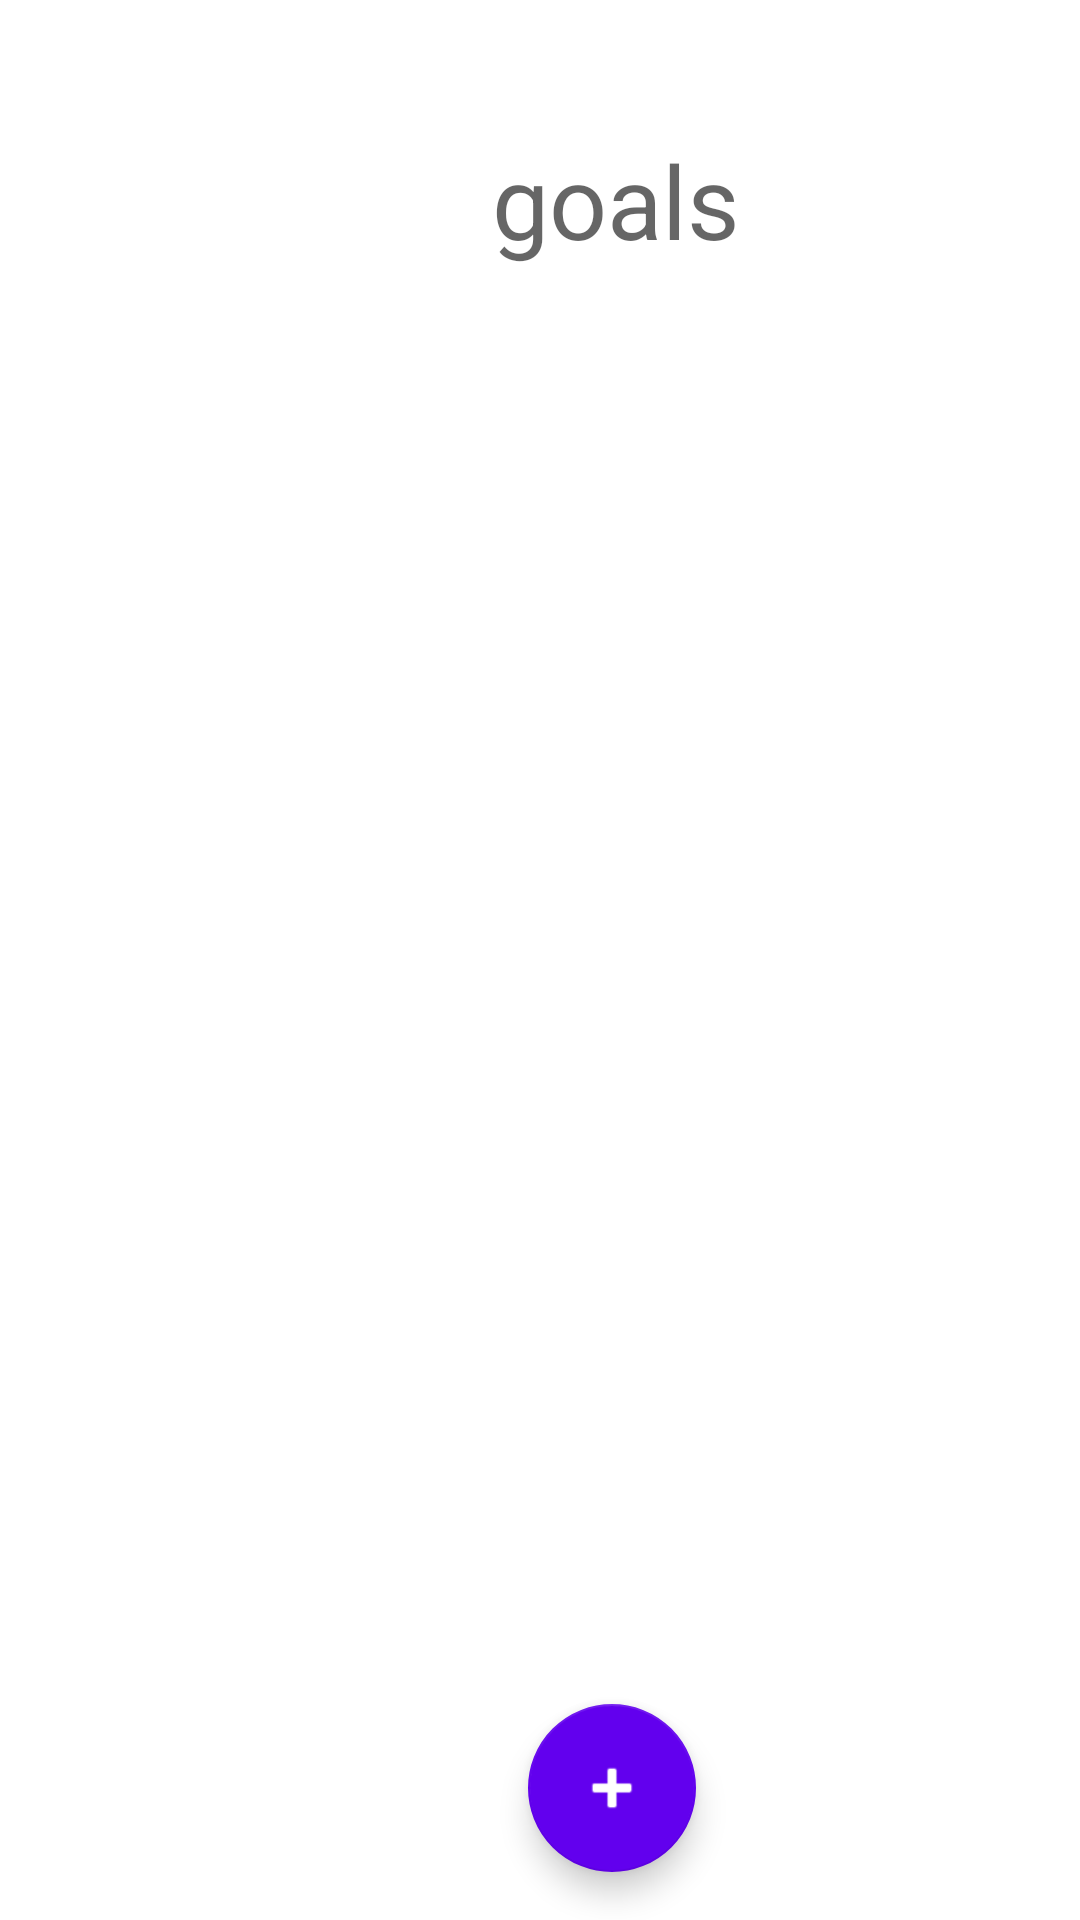

Screen size 1080px x 1920px. Icon name, then its box in pixels as (x1, y1, x2, y2):
add: (528, 1704, 696, 1872)
